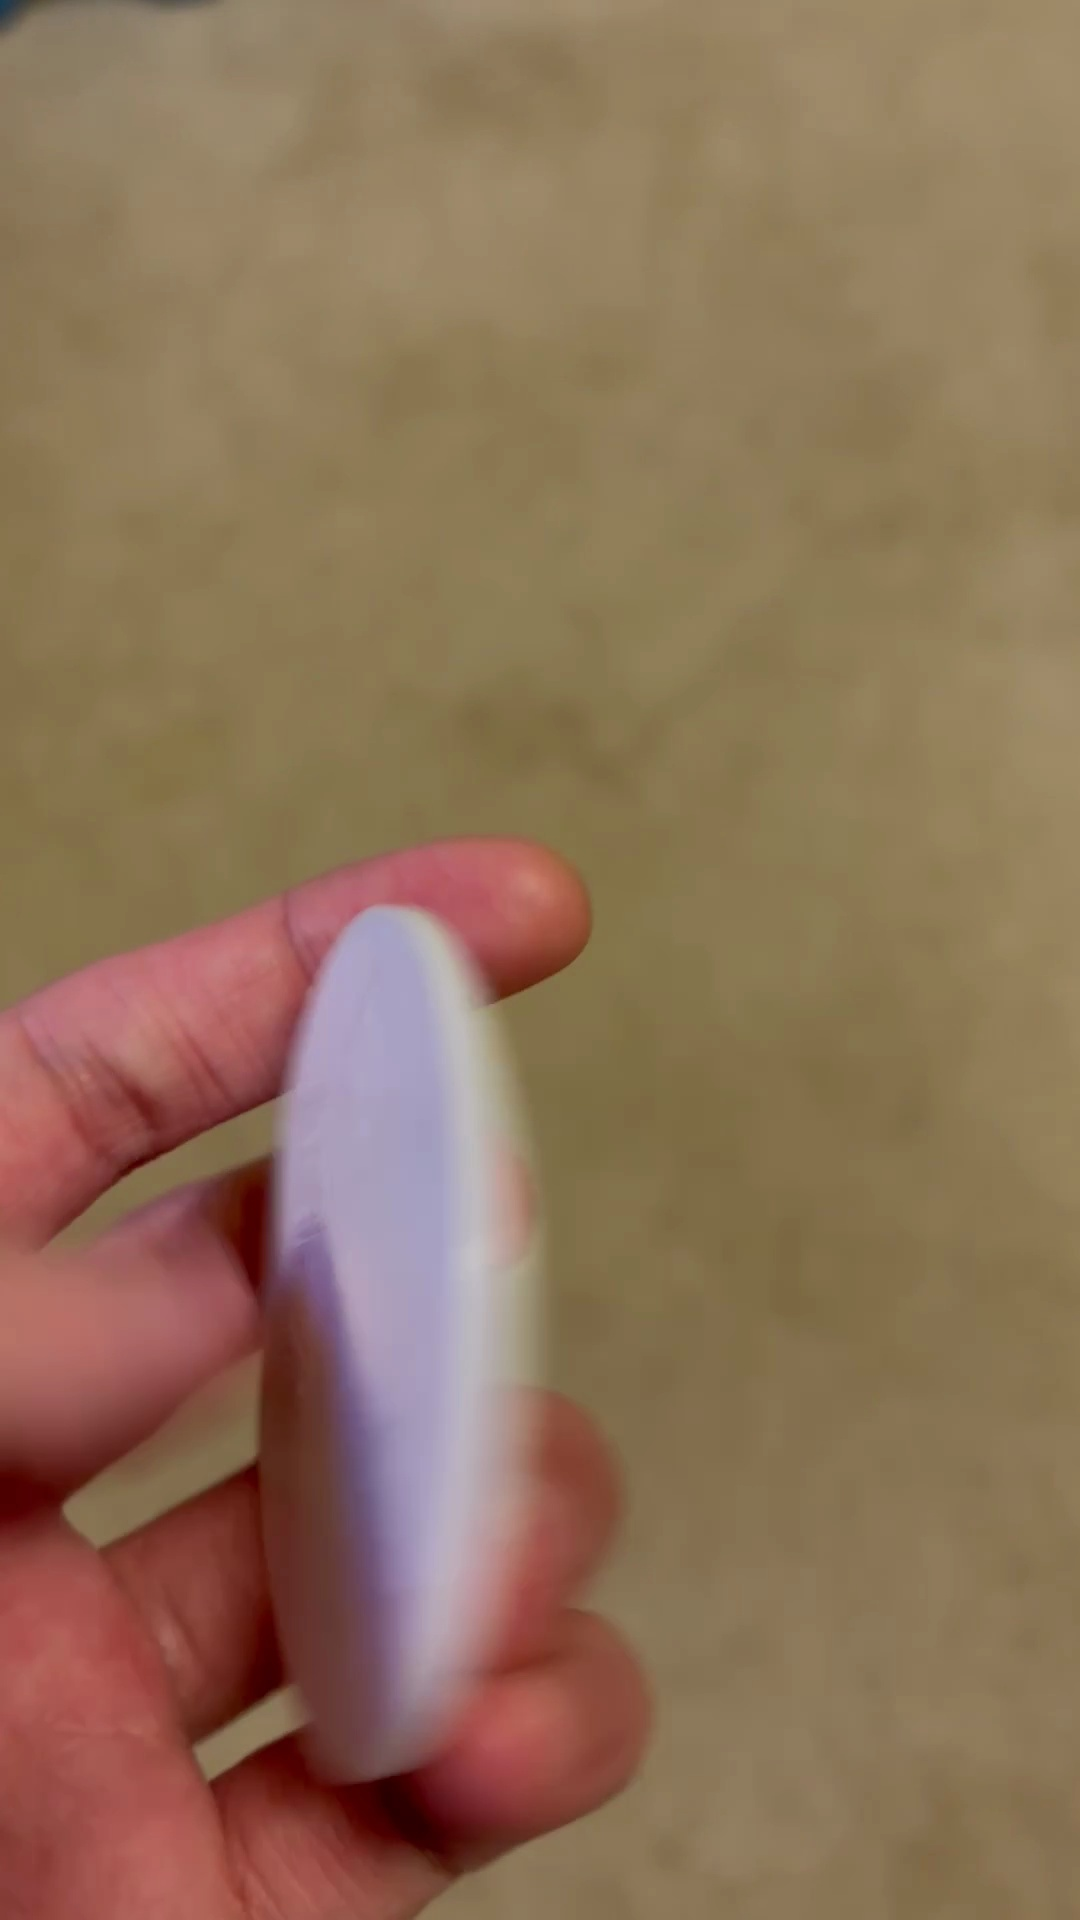Part1: (258, 909, 541, 1782)
